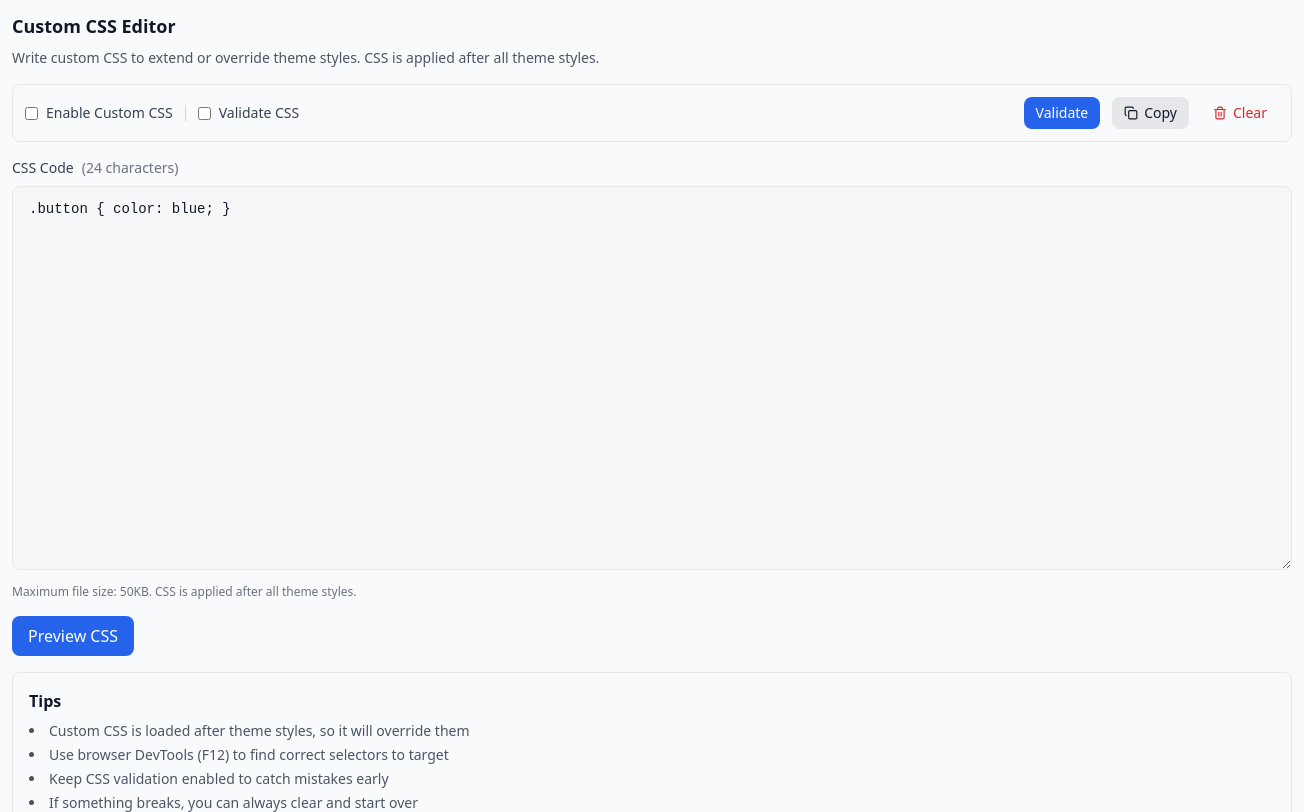
CustomCSSEditor › Preview Mode › should show disabled message when CSS is disabled
The image size is (1304, 812).
Click the button "Preview CSS".
click(73, 636)  # box top-left (12, 616), bottom-right (134, 656)
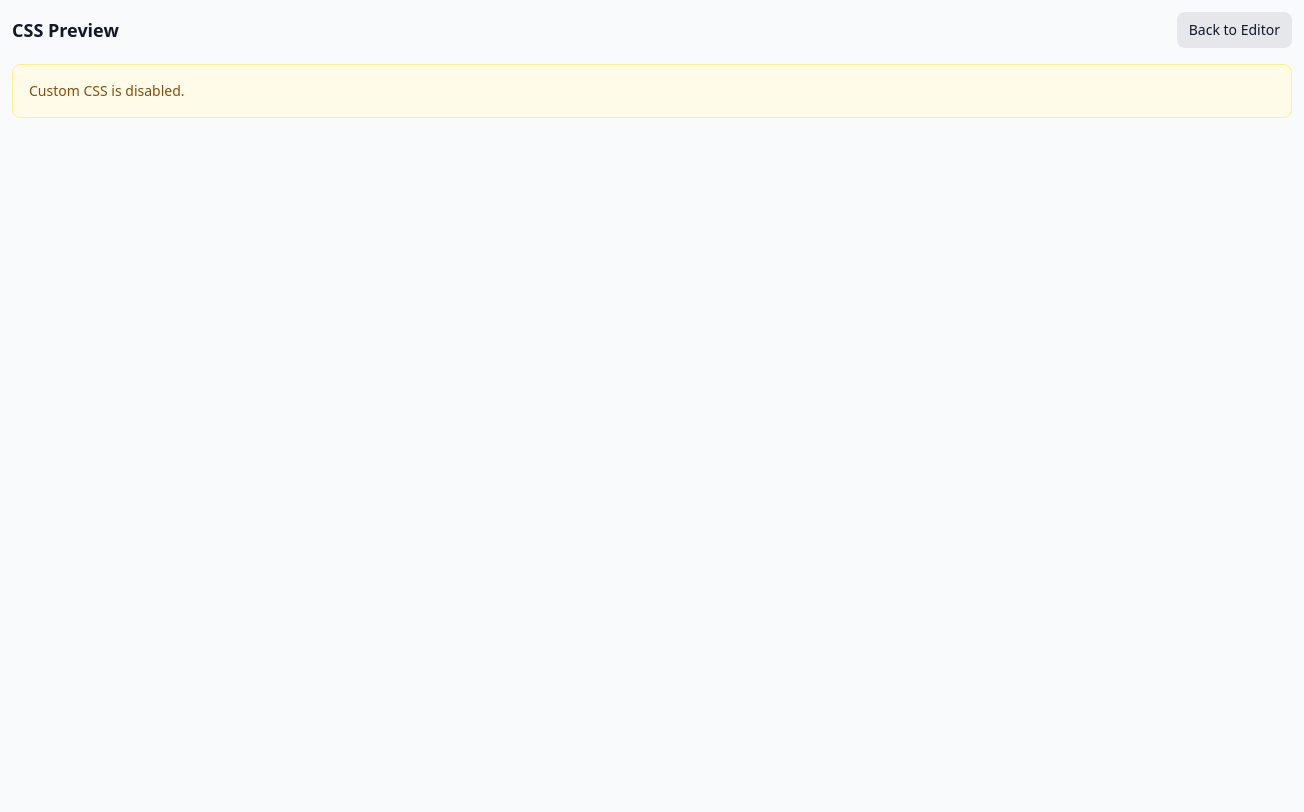
Now the text "Custom CSS is disabled." is shown, box top-left (29, 81), bottom-right (184, 100)
